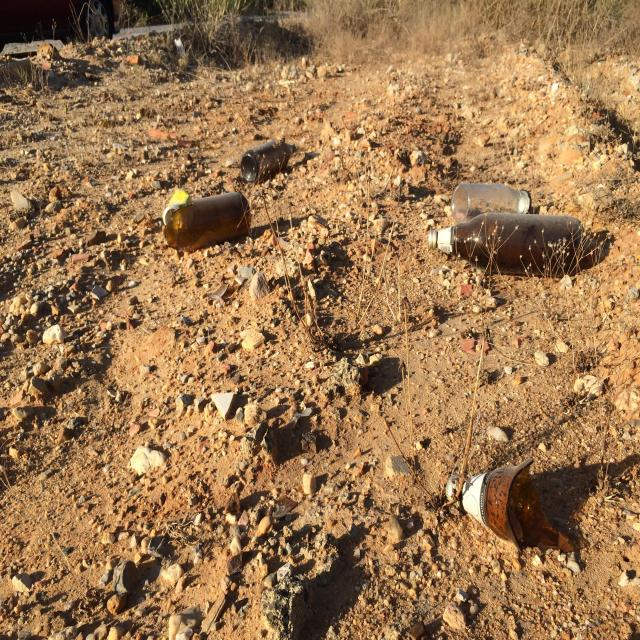litter: (446, 457, 579, 553), (428, 213, 584, 277), (164, 191, 251, 253), (451, 183, 531, 223), (240, 139, 296, 184), (163, 189, 191, 224), (274, 495, 295, 519), (446, 473, 461, 506), (206, 284, 230, 299), (518, 189, 532, 214), (428, 229, 436, 249), (174, 38, 184, 54), (290, 143, 296, 152)
